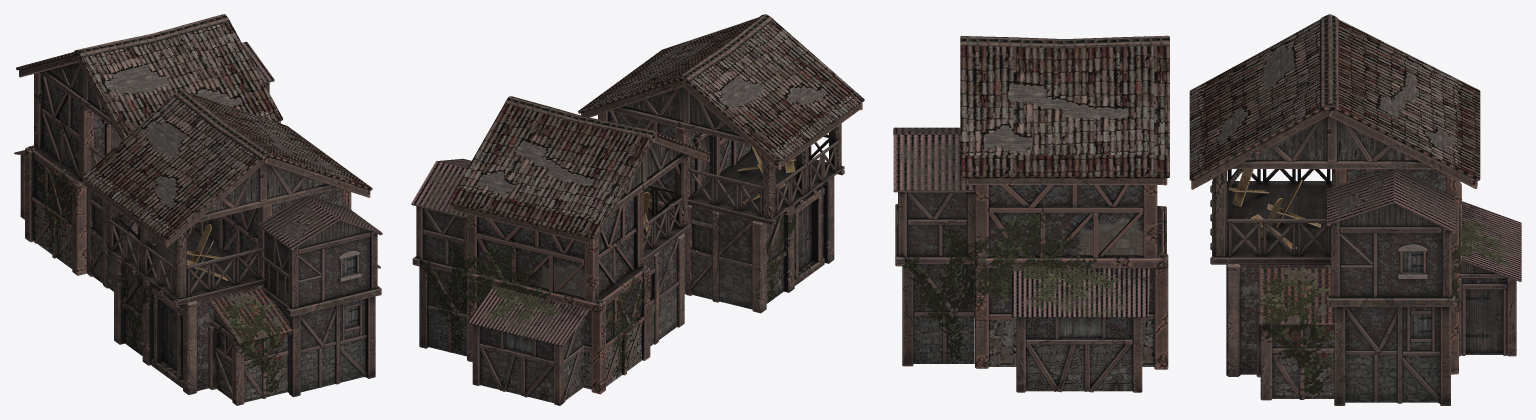
File: RomanoBritishHouse.fbx
3 views of the same model, side by side, from view 1: azimuth 30°, elevation 25°; view 2: azimuth 150°, elevation 25°; view 3: azimuth 270°, elevation 25° (orthographic). The views are drawn at different scales.
Parts seen in each view (by area): view 1: RomanoBritishHouse; view 2: RomanoBritishHouse; view 3: RomanoBritishHouse.
Part boxes in pixels (bbox=[...]): RomanoBritishHouse: bbox=[14, 14, 382, 405]; RomanoBritishHouse: bbox=[411, 14, 864, 405]; RomanoBritishHouse: bbox=[893, 14, 1521, 405].
Size of the model in its own units: 1642 by 1396 by 2834.
